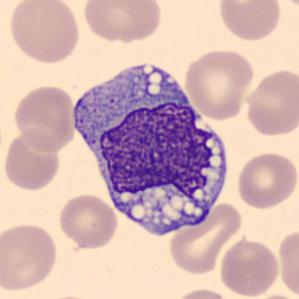Monocyte: (69, 50, 234, 242)
RBC: (166, 199, 245, 276), (182, 47, 256, 120), (7, 0, 82, 65), (11, 82, 77, 153), (0, 221, 60, 293), (2, 128, 63, 194), (243, 65, 298, 138), (218, 235, 282, 297), (234, 150, 298, 211), (57, 192, 120, 250), (80, 0, 163, 43), (216, 0, 283, 43), (275, 226, 299, 299), (173, 286, 233, 299)
